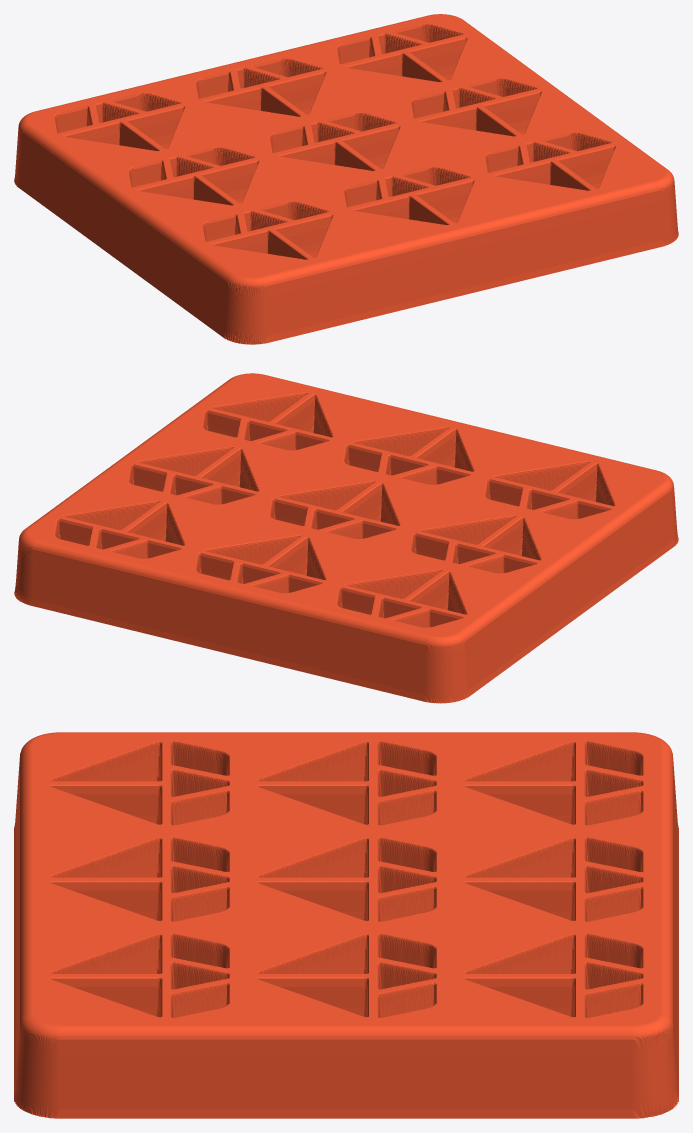
File: mold.glb
3 renders of one model, top to bottom at view 1: azimuth 30°, elevation 25°; view 2: azimuth 150°, elevation 25°; view 3: azimuth 270°, elevation 25°, orthographic. The views are drawn at different scales.
Visible parts, largest first — view 1: geometry_0; view 2: geometry_0; view 3: geometry_0.
Part boxes in pixels (left/top/right/bottom): geometry_0: left=14, top=14, right=678, bottom=344; geometry_0: left=14, top=373, right=678, bottom=703; geometry_0: left=14, top=732, right=678, bottom=1118.
Size of the model in its own units: 0.1402 by 0.0182 by 0.1281.
